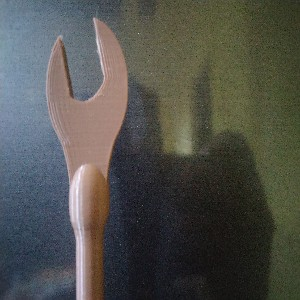spanner: (45, 17, 129, 300)
